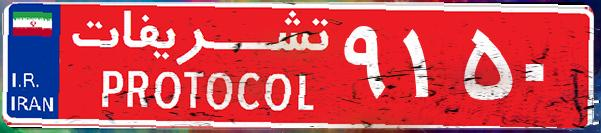0: (520, 20, 580, 115)
1: (400, 20, 460, 115)
5: (460, 20, 520, 115)
9: (340, 20, 400, 115)
تشریفات: (60, 8, 340, 125)
